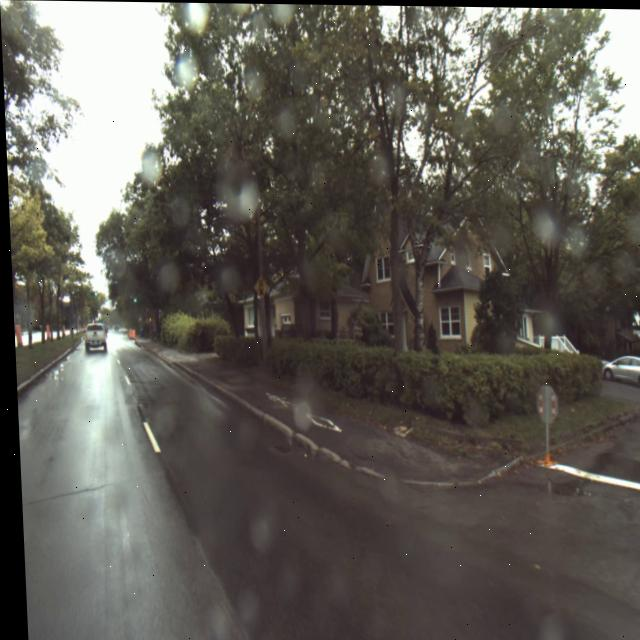car: (598, 354, 640, 388), (80, 323, 104, 354)
trafficLight-Green: (130, 296, 135, 304), (91, 291, 96, 298)
